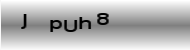8: (96, 12, 111, 26)
J: (20, 12, 27, 29)
U: (63, 18, 77, 34)
h: (77, 16, 92, 30)
p: (49, 19, 62, 32)
